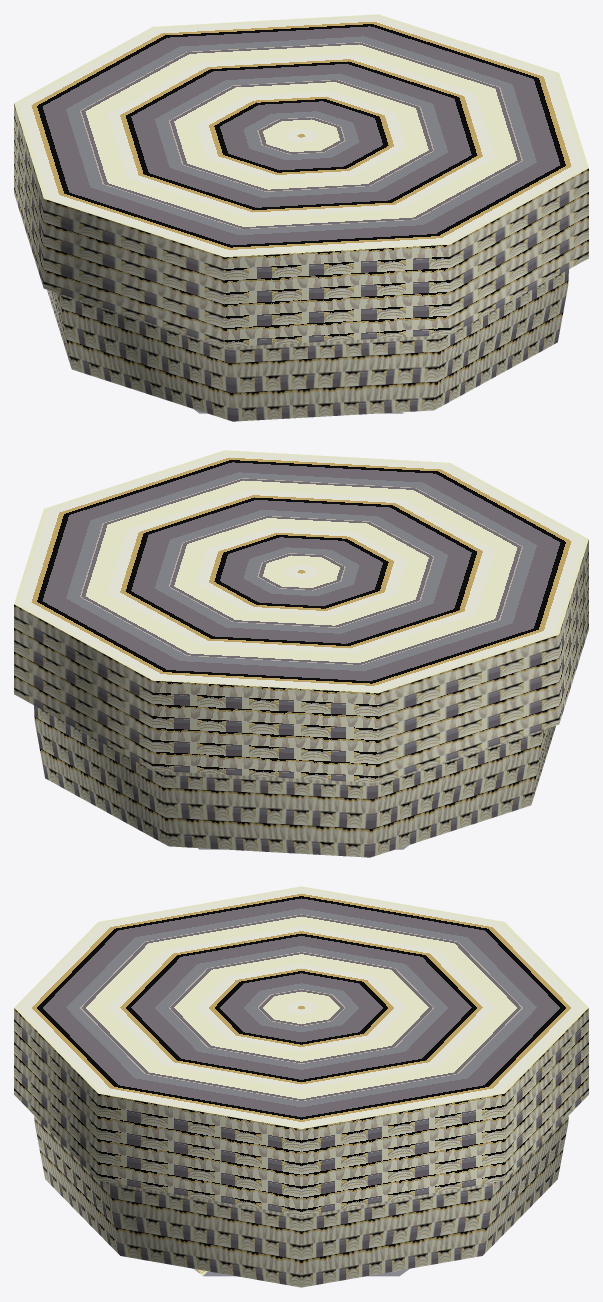
3 views of the same model, one above another, from view 1: azimuth 30°, elevation 25°; view 2: azimuth 150°, elevation 25°; view 3: azimuth 270°, elevation 25° (orthographic). The views are drawn at different scales.
Visible parts, largest first — view 1: 3614kg_25_ta0; view 2: 3614kg_25_ta0; view 3: 3614kg_25_ta0.
Part boxes in pixels (x1=…): 3614kg_25_ta0: x1=14, y1=14, x2=588, y2=421; 3614kg_25_ta0: x1=14, y1=450, x2=588, y2=857; 3614kg_25_ta0: x1=14, y1=886, x2=588, y2=1287.
Size of the model in its own units: 1.99 by 0.751 by 1.99.
Materials: 1 (1 with a texture image).
